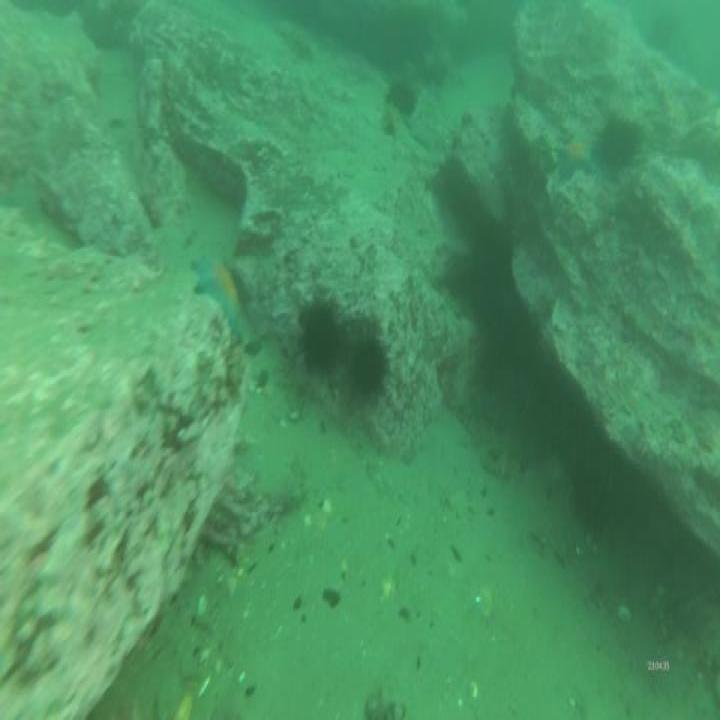echinus: (299, 300, 340, 378), (348, 332, 385, 400), (597, 117, 636, 167), (389, 74, 417, 114)
starfish: (191, 254, 247, 338), (554, 138, 593, 180)
